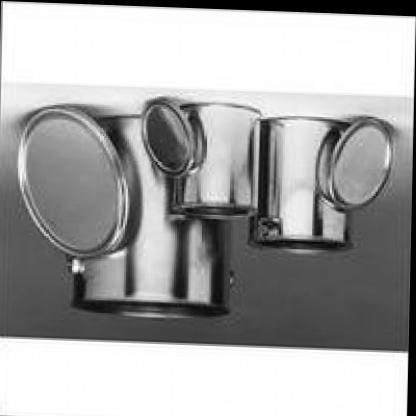Metal: (8, 56, 415, 352)
